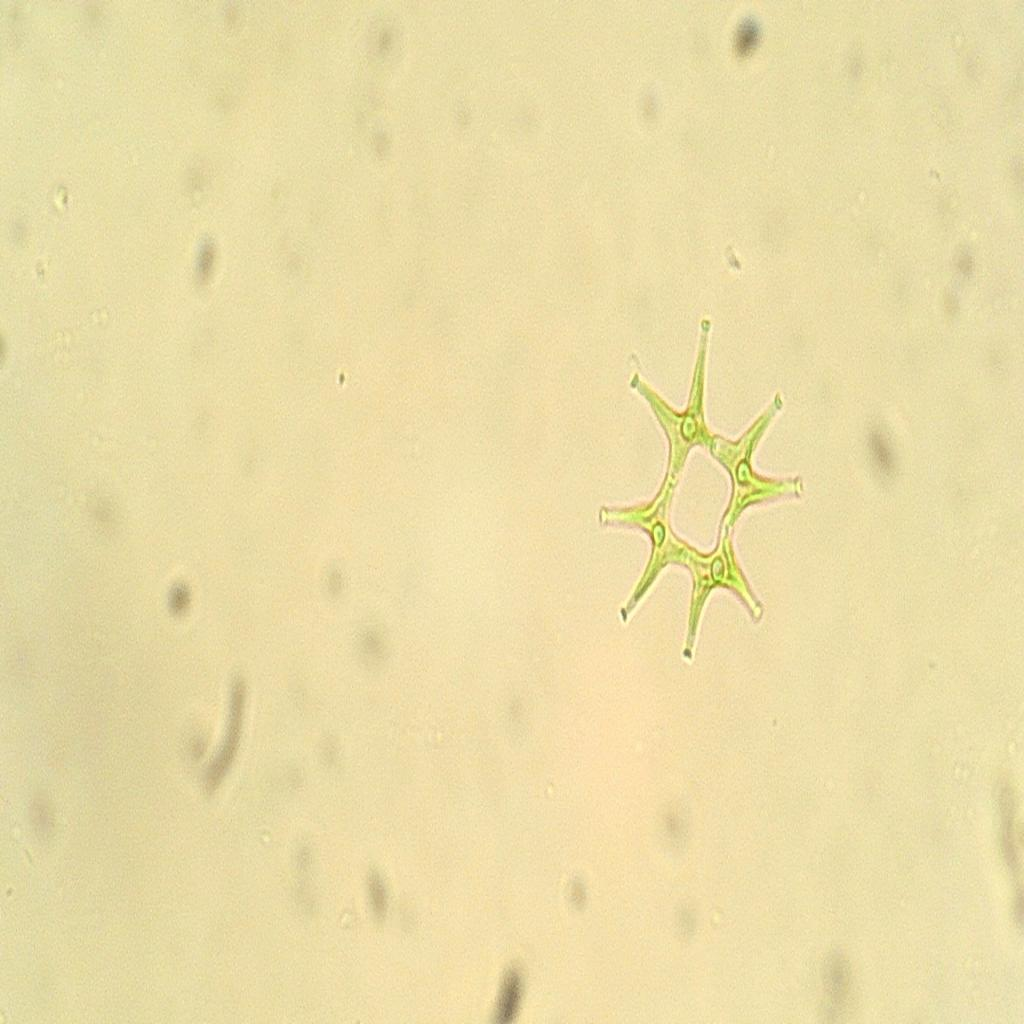Pediastrum_10: (577, 306, 825, 674)
